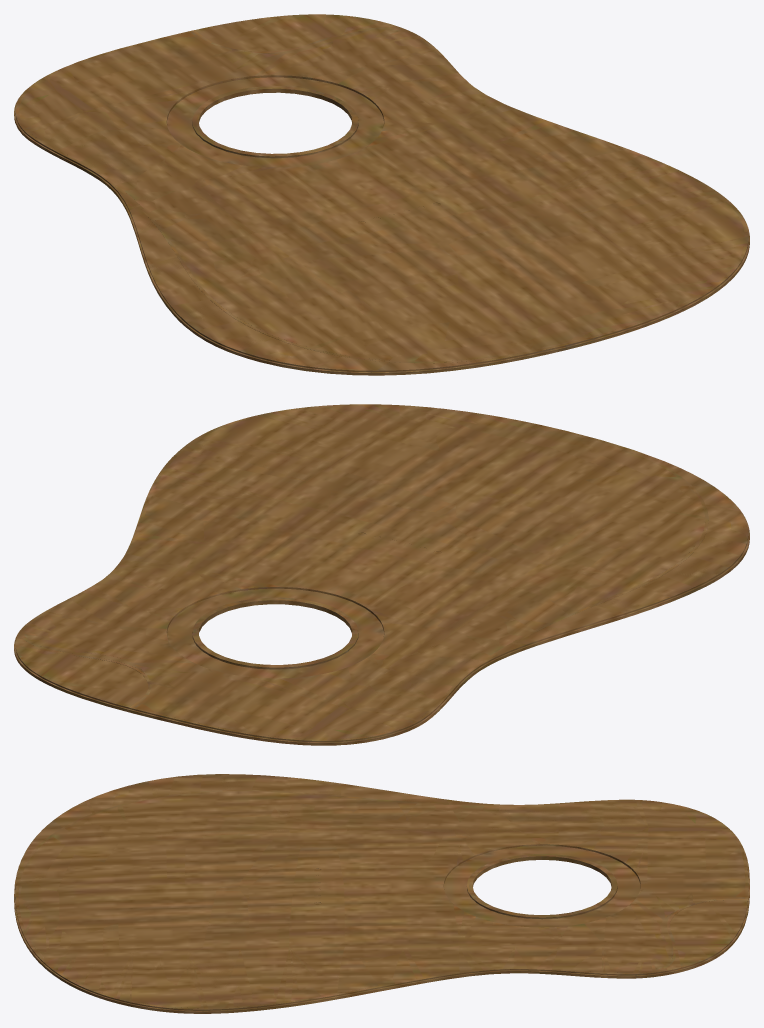
Rendered from Luth_Soundboard-transformed.glb.
3 views of the same model, one above another, from view 1: azimuth 30°, elevation 25°; view 2: azimuth 150°, elevation 25°; view 3: azimuth 270°, elevation 25° (orthographic). The views are drawn at different scales.
Visible parts, largest first — view 1: Body_Soundboard_Arm_Bevel_Cutaway_Venetian_Baked, Body_Soundboard_Arm_Bevel_Baked, Body_Soundboard_Florentine_Cutaway_Baked, Body_Soundboard_Venetian_Cutaway_Baked, Body_Soundboard_Baked, Body_Soundboard_Arm_Bevel_Cutaway_Florentine_Baked; view 2: Body_Soundboard_Arm_Bevel_Cutaway_Venetian_Baked, Body_Soundboard_Arm_Bevel_Baked, Body_Soundboard_Venetian_Cutaway_Baked, Body_Soundboard_Florentine_Cutaway_Baked, Body_Soundboard_Baked, Body_Soundboard_Arm_Bevel_Cutaway_Florentine_Baked; view 3: Body_Soundboard_Arm_Bevel_Cutaway_Venetian_Baked, Body_Soundboard_Arm_Bevel_Baked, Body_Soundboard_Florentine_Cutaway_Baked, Body_Soundboard_Venetian_Cutaway_Baked, Body_Soundboard_Baked, Body_Soundboard_Arm_Bevel_Cutaway_Florentine_Baked.
Part boxes in pixels (x1,y1,x2,y2): Body_Soundboard_Arm_Bevel_Cutaway_Venetian_Baked: [19, 29, 744, 361]; Body_Soundboard_Arm_Bevel_Baked: [14, 14, 749, 363]; Body_Soundboard_Florentine_Cutaway_Baked: [29, 22, 749, 375]; Body_Soundboard_Venetian_Cutaway_Baked: [14, 27, 749, 375]; Body_Soundboard_Baked: [14, 14, 749, 375]; Body_Soundboard_Arm_Bevel_Cutaway_Florentine_Baked: [14, 15, 749, 348]; Body_Soundboard_Arm_Bevel_Cutaway_Venetian_Baked: [24, 405, 705, 738]; Body_Soundboard_Arm_Bevel_Baked: [14, 404, 708, 745]; Body_Soundboard_Venetian_Cutaway_Baked: [19, 404, 749, 745]; Body_Soundboard_Florentine_Cutaway_Baked: [14, 405, 749, 743]; Body_Soundboard_Baked: [14, 404, 749, 745]; Body_Soundboard_Arm_Bevel_Cutaway_Florentine_Baked: [14, 404, 707, 745]; Body_Soundboard_Arm_Bevel_Cutaway_Venetian_Baked: [18, 791, 745, 1008]; Body_Soundboard_Arm_Bevel_Baked: [14, 790, 749, 1013]; Body_Soundboard_Florentine_Cutaway_Baked: [14, 774, 749, 1013]; Body_Soundboard_Venetian_Cutaway_Baked: [14, 774, 749, 1013]; Body_Soundboard_Baked: [14, 774, 749, 1013]; Body_Soundboard_Arm_Bevel_Cutaway_Florentine_Baked: [14, 790, 749, 1013].
Bounding box in the file's own units: 0.3876 × 0.0107 × 0.5098.
1 material, 1 textured.
